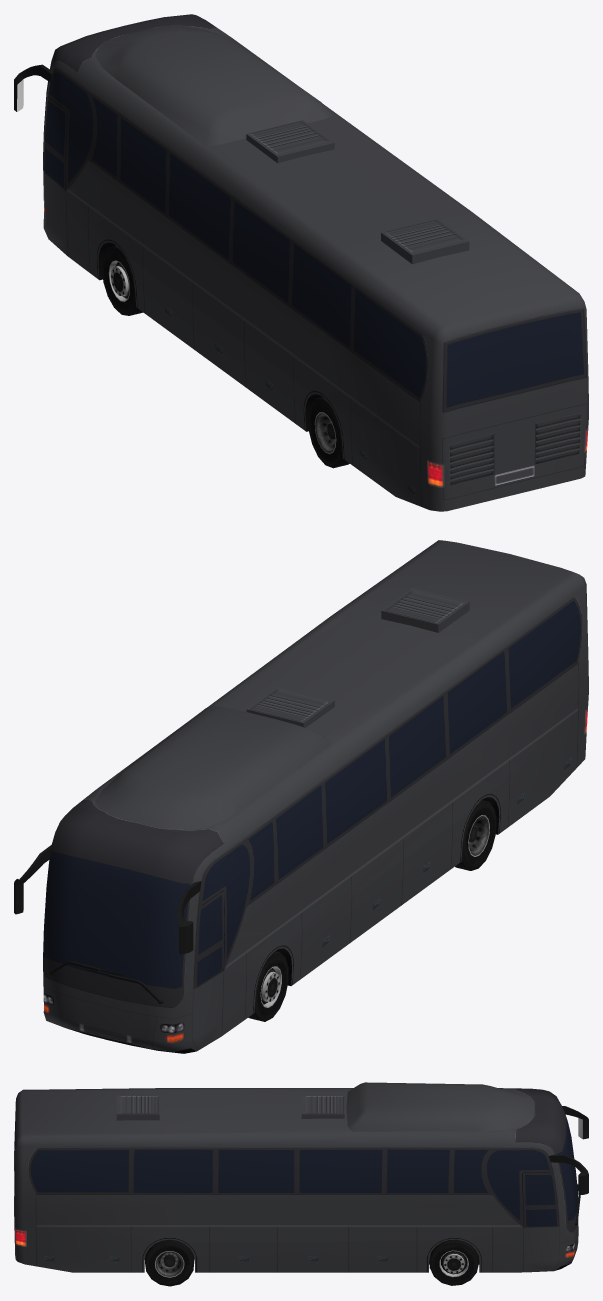
File: City Bus Lowpoly3_Grey.FBX
The picture shows the model from 3 angles, top to bottom: view 1: azimuth 30°, elevation 25°; view 2: azimuth 150°, elevation 25°; view 3: azimuth 270°, elevation 25°; orthographic projection. The views are drawn at different scales.
Visible parts, largest first — view 1: City Bus Lowpoly3_Grey, City Bus Lowpoly3_Grey_Wheel_03, City Bus Lowpoly3_Grey_Wheel_02; view 2: City Bus Lowpoly3_Grey, City Bus Lowpoly3_Grey_Wheel_03, City Bus Lowpoly3_Grey_Wheel_02; view 3: City Bus Lowpoly3_Grey, City Bus Lowpoly3_Grey_Wheel_04, City Bus Lowpoly3_Grey_Wheel_01.
Part boxes in pixels (x1,y1,x2,y2): City Bus Lowpoly3_Grey: (14,14,588,511); City Bus Lowpoly3_Grey_Wheel_03: (308,397,349,468); City Bus Lowpoly3_Grey_Wheel_02: (102,245,142,315); City Bus Lowpoly3_Grey: (14,540,588,1053); City Bus Lowpoly3_Grey_Wheel_03: (455,800,496,870); City Bus Lowpoly3_Grey_Wheel_02: (248,951,288,1021); City Bus Lowpoly3_Grey: (14,1082,588,1272); City Bus Lowpoly3_Grey_Wheel_04: (145,1239,194,1286); City Bus Lowpoly3_Grey_Wheel_01: (430,1239,478,1285).
Size of the model in its own units: 3.08 by 4.03 by 12.66.
